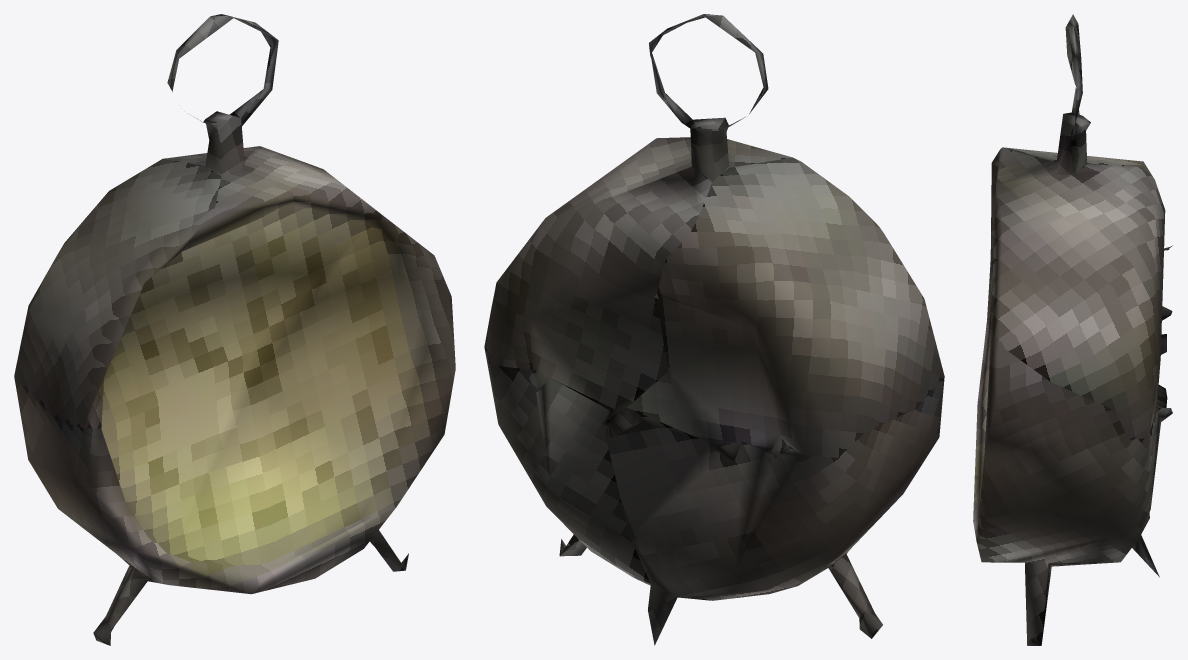
Rendered from Crosley_Alarm_Clock_Vintage_Metal-low.glb.
3 views of the same model, side by side, from view 1: azimuth 30°, elevation 25°; view 2: azimuth 150°, elevation 25°; view 3: azimuth 270°, elevation 25° (orthographic). The views are drawn at different scales.
Visible parts, largest first — view 1: Crosley_Alarm_Clock_Vintage_Metal; view 2: Crosley_Alarm_Clock_Vintage_Metal; view 3: Crosley_Alarm_Clock_Vintage_Metal.
Part boxes in pixels (box(x1,y1,x2,y2)): Crosley_Alarm_Clock_Vintage_Metal: box(14, 14, 455, 645); Crosley_Alarm_Clock_Vintage_Metal: box(484, 14, 944, 645); Crosley_Alarm_Clock_Vintage_Metal: box(973, 14, 1172, 645).
Size of the model in its own units: 0.108 by 0.1608 by 0.0527.
1 material, 1 textured.
